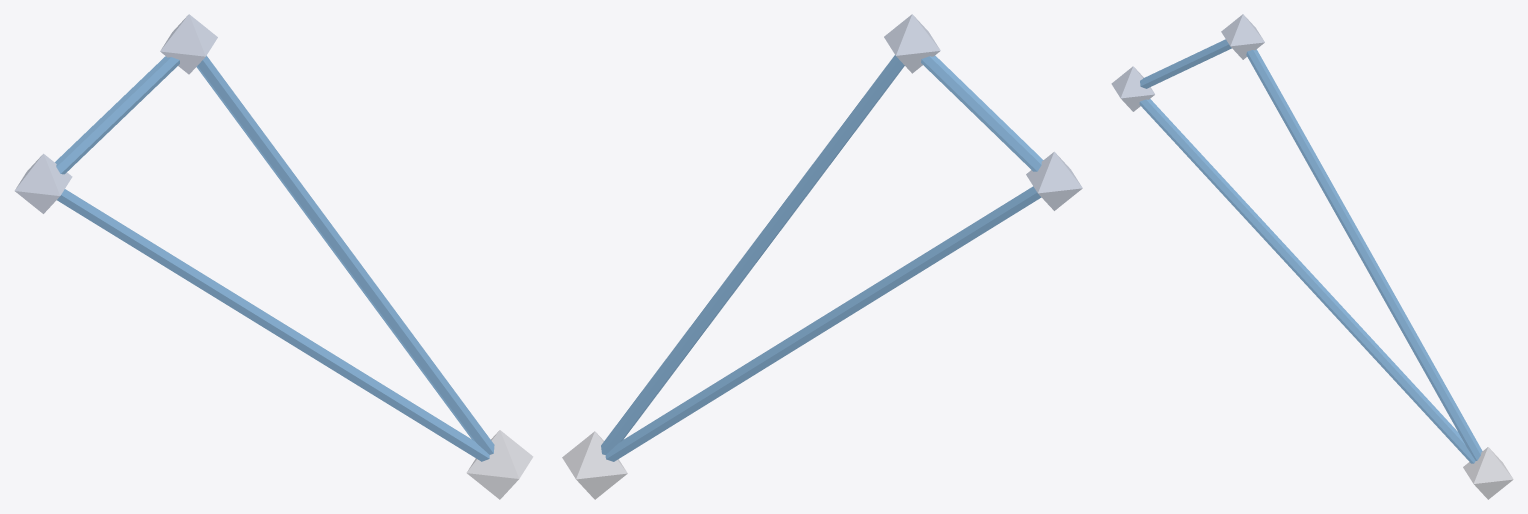
The model's file is constellation-tri.glb.
The picture shows the model from 3 angles, left to right: view 1: azimuth 30°, elevation 25°; view 2: azimuth 150°, elevation 25°; view 3: azimuth 330°, elevation 25°; orthographic projection. The views are drawn at different scales.
Bounding box in the file's own units: 0.6138 × 0.6346 × 0.0857.
